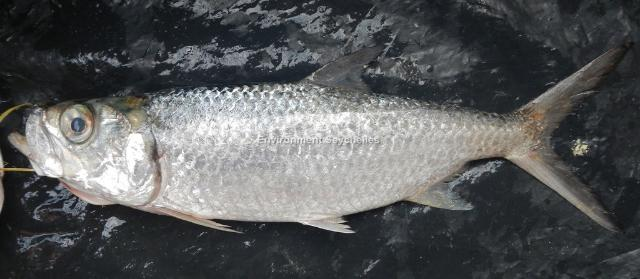Mulut: (9, 93, 51, 171)
Sirip Anal: (404, 154, 484, 216)
Sirip Dada: (147, 195, 243, 245)
Sirip Ekor: (506, 34, 630, 238)
Sirip Perut: (299, 206, 363, 242)
Sirip Punggung: (305, 40, 391, 96)
